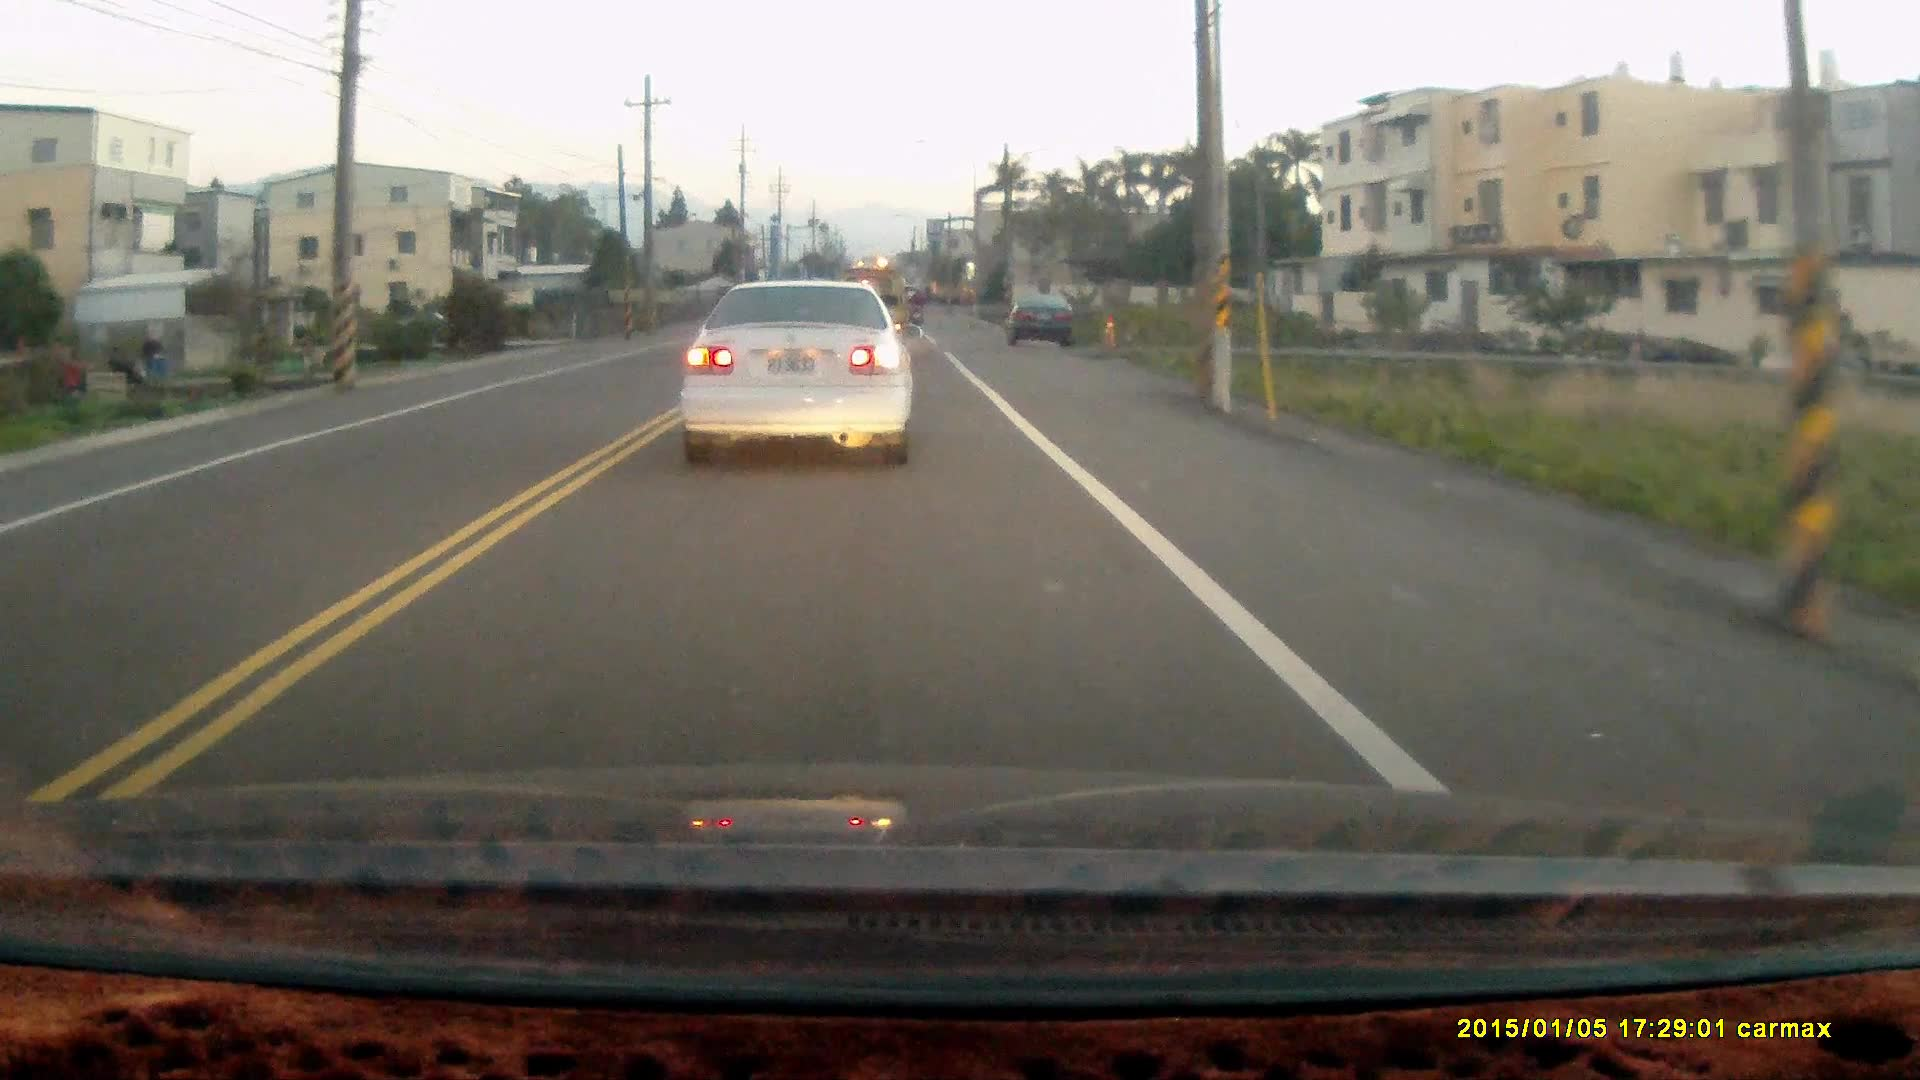pedestrian: (54, 349, 85, 413)
vehicle: (680, 276, 921, 471), (1009, 290, 1077, 348)
